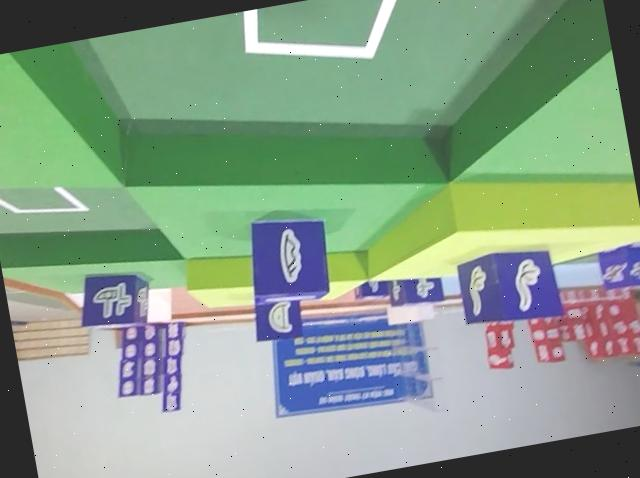R2 Real Blue: (452, 238, 565, 331), (238, 206, 336, 309), (69, 262, 152, 335), (249, 292, 307, 345), (385, 270, 445, 311)
